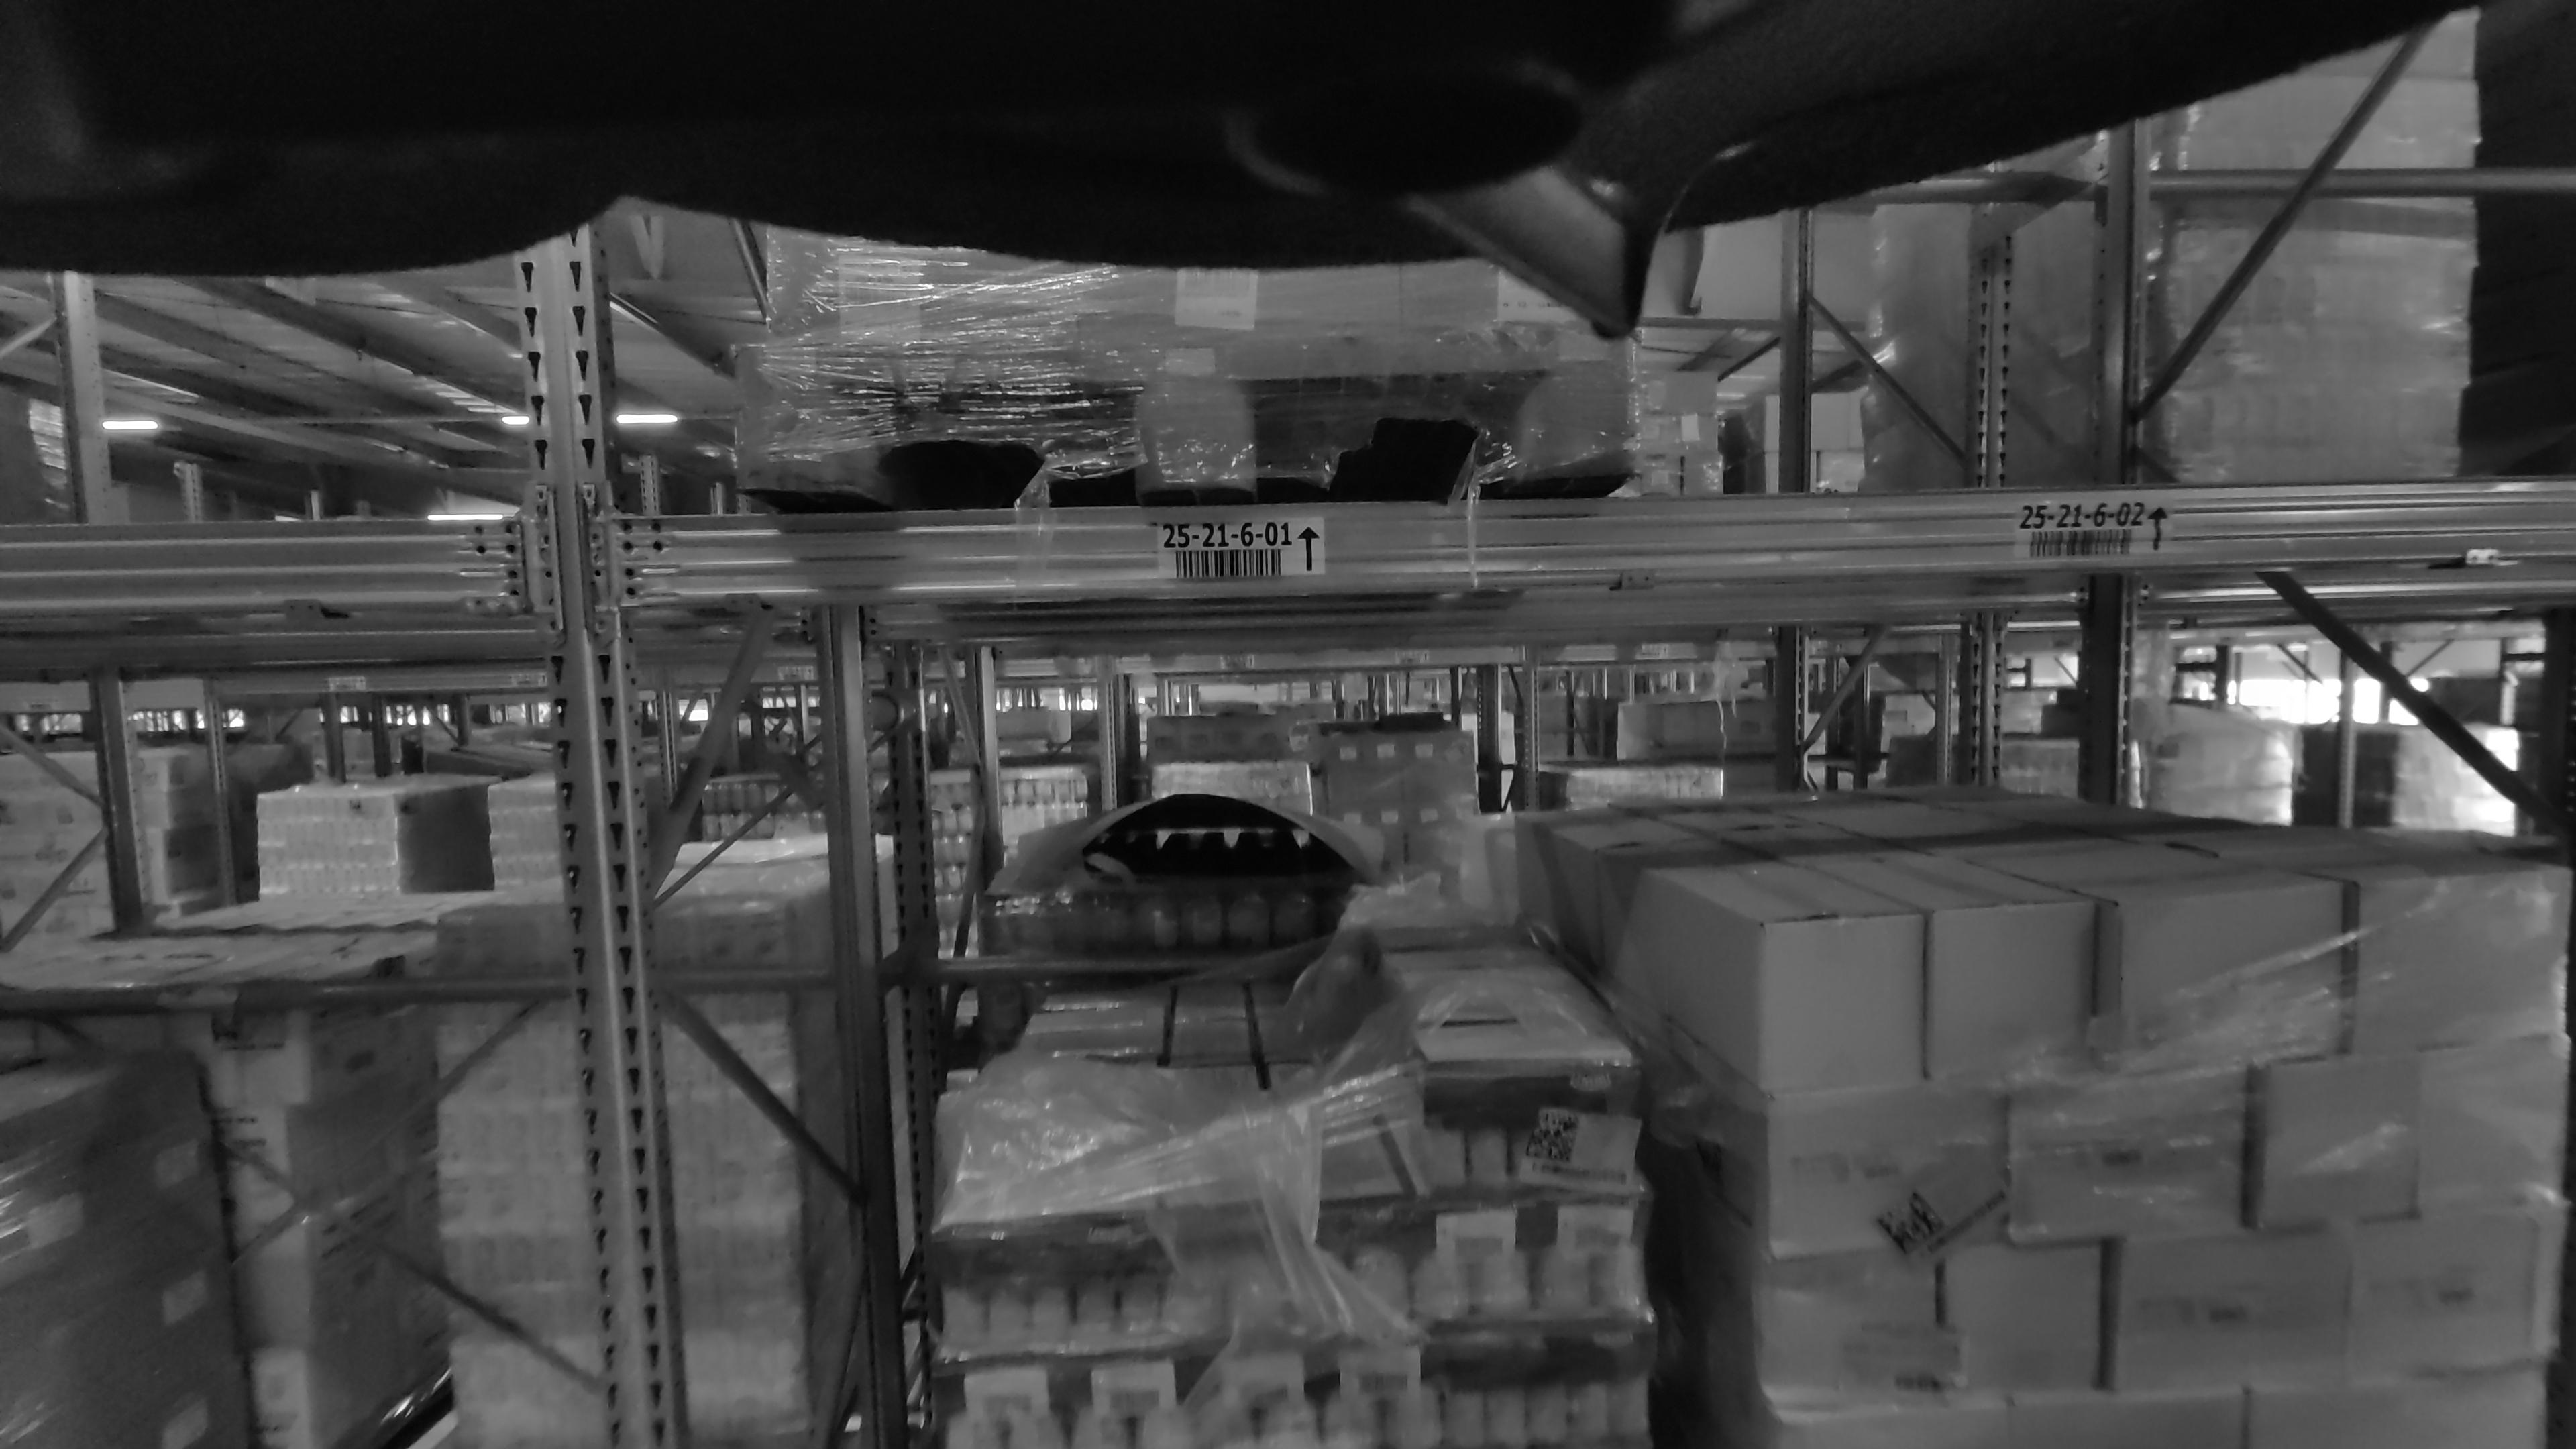empty-shelf: (1713, 172, 2514, 481)
